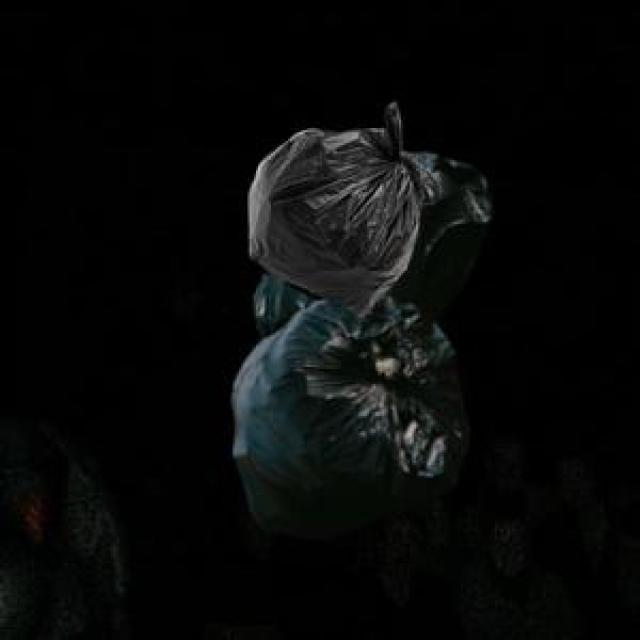miscellaneous trash: (228, 149, 489, 536), (245, 98, 437, 314)
